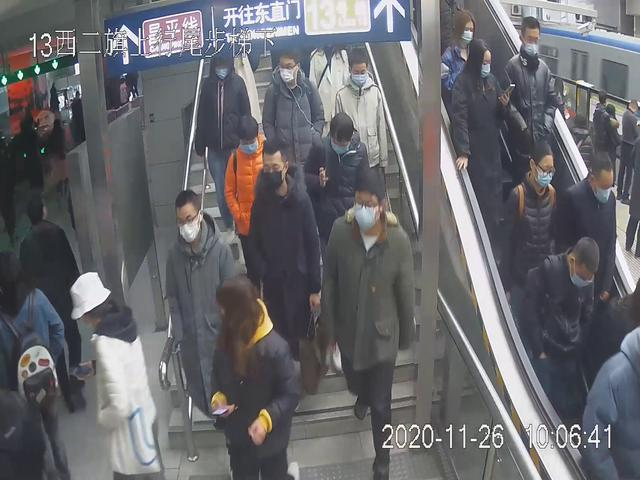person: (320, 168, 420, 480), (164, 187, 254, 452), (68, 266, 165, 480), (247, 136, 326, 393), (208, 275, 304, 480), (513, 228, 607, 434), (296, 112, 377, 295), (448, 36, 513, 238), (193, 45, 255, 240), (557, 148, 622, 324), (494, 137, 560, 308), (259, 42, 328, 203), (333, 45, 393, 227), (503, 12, 565, 188), (222, 112, 279, 291)
